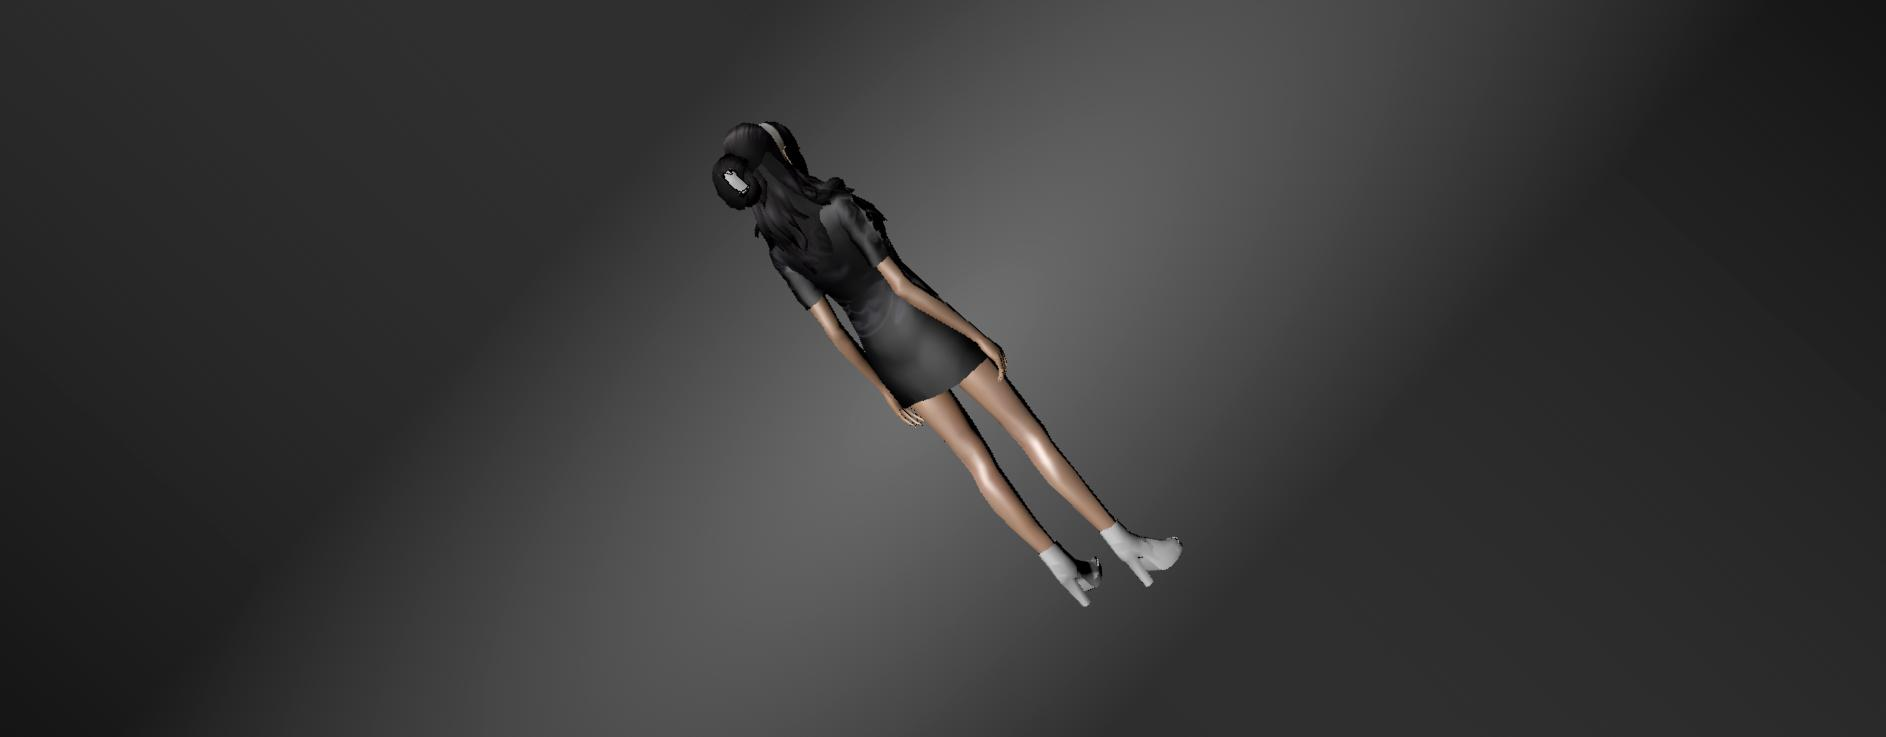clip: (719, 166, 755, 198)
